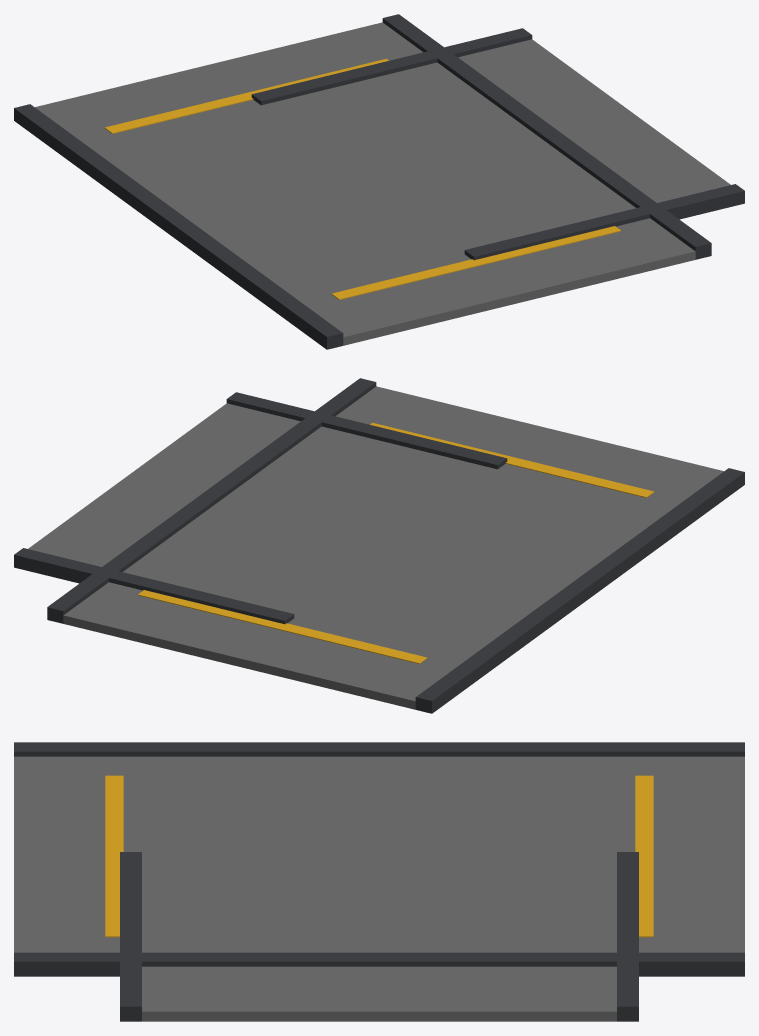
The model's file is road_industrial_v_tee.glb.
3 views of the same model, one above another, from view 1: azimuth 30°, elevation 25°; view 2: azimuth 150°, elevation 25°; view 3: azimuth 270°, elevation 25° (orthographic). The views are drawn at different scales.
Visible parts, largest first — view 1: body; view 2: body; view 3: body.
Part boxes in pixels (<box>): body: <box>14,14,744,349</box>; body: <box>14,378,744,713</box>; body: <box>14,742,744,1021</box>.
Size of what is drawn, in the model's own units: 6.84 by 0.18 by 8.
